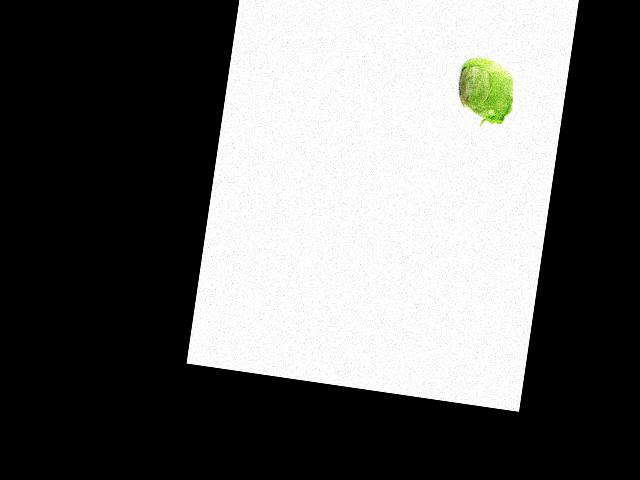lettuce: (452, 52, 521, 124)
